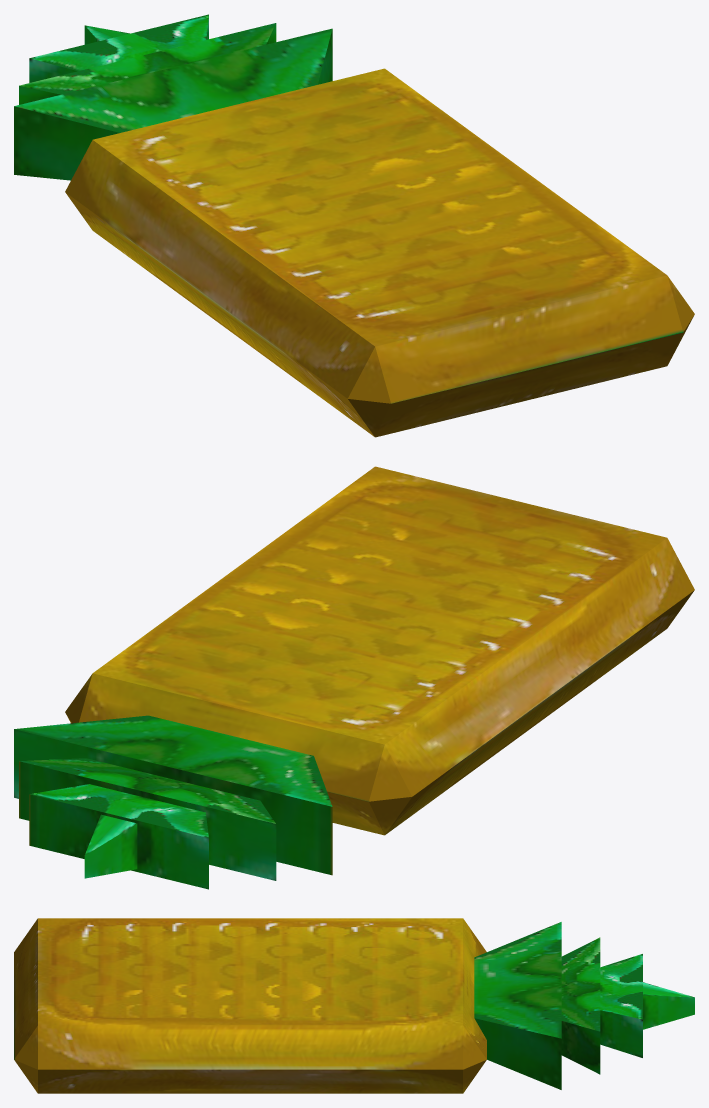
The model's file is FloatyPineapple01.obj.
3 views of the same model, one above another, from view 1: azimuth 30°, elevation 25°; view 2: azimuth 150°, elevation 25°; view 3: azimuth 270°, elevation 25° (orthographic). The views are drawn at different scales.
Parts seen in each view (by area): view 1: FloatyPineapple01; view 2: FloatyPineapple01; view 3: FloatyPineapple01.
Boxes of the visible parts, x1,y1,x2,y2 form: FloatyPineapple01: (14, 14, 694, 437); FloatyPineapple01: (14, 466, 694, 889); FloatyPineapple01: (14, 918, 694, 1093).
Size of the model in its own units: 2.2 by 0.55 by 4.97.
